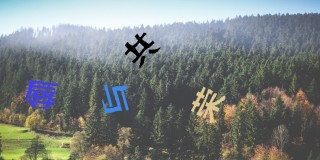与: (124, 32, 160, 68), (101, 83, 129, 113)
荣: (190, 85, 226, 123)
辱: (24, 80, 60, 110)
